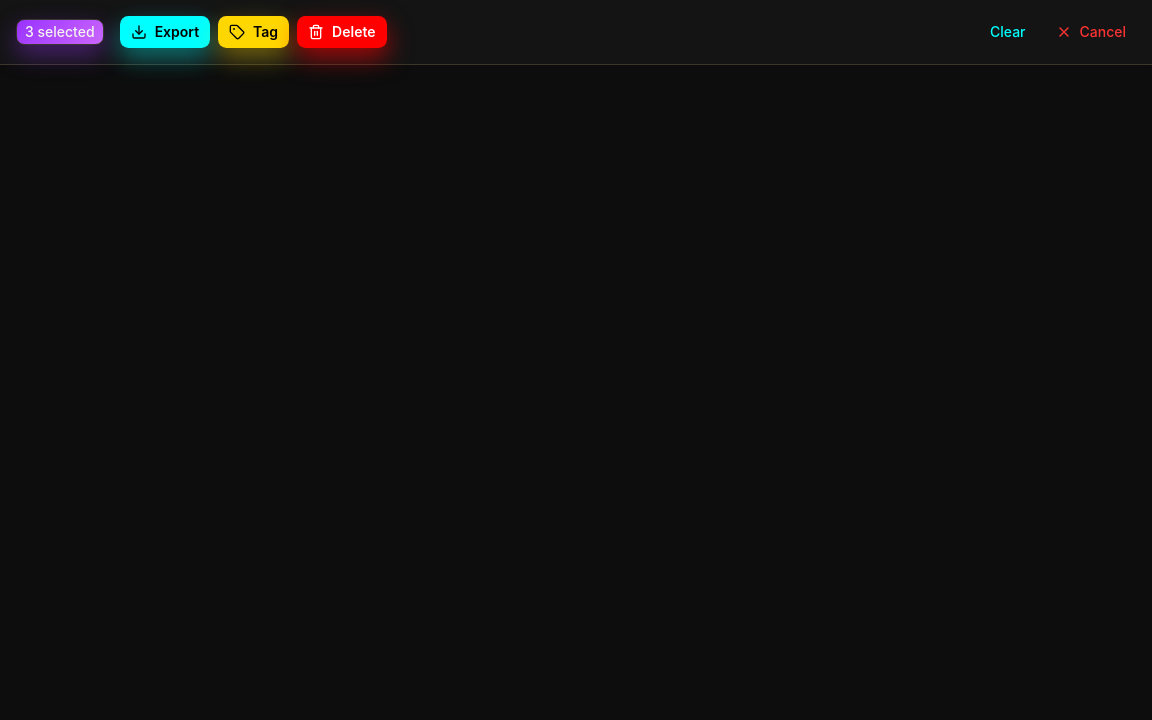
Test: BatchActions Component › Selection Mode Enabled - Items Selected › clicking Export button opens export dialog
Step 1. Click the button "Export" → (165, 32), box [120,16,210,48]
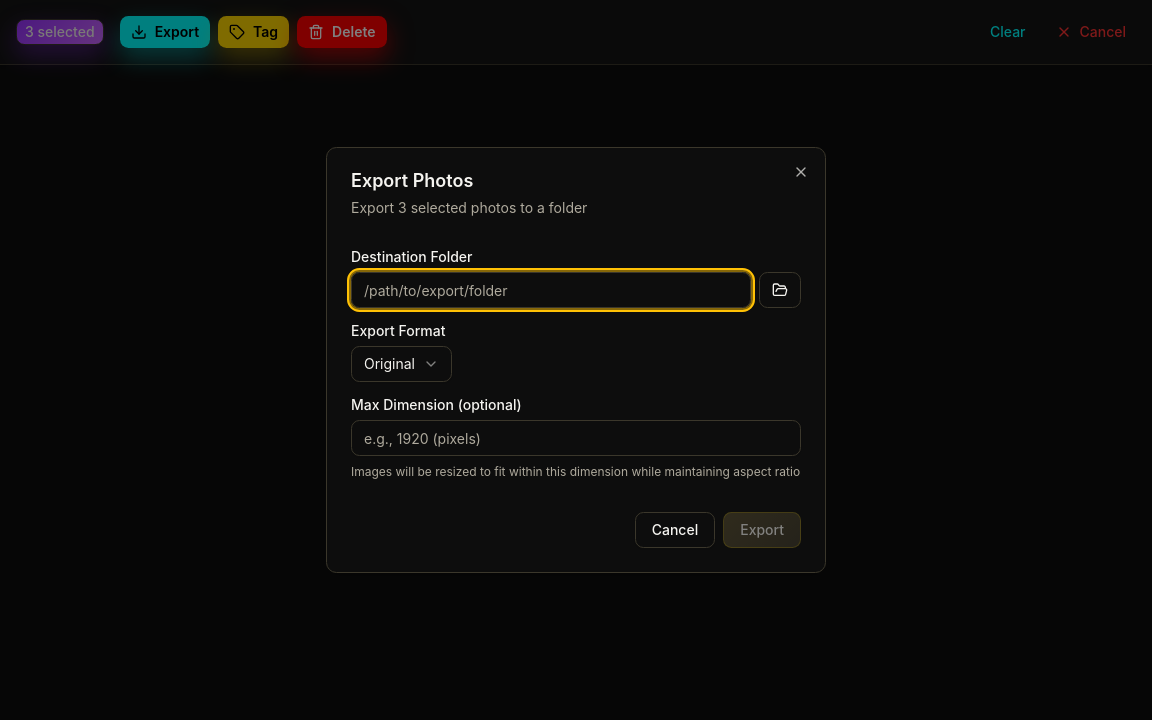
Expected: the heading "Export Photos" is shown, [351,170,473,191]
